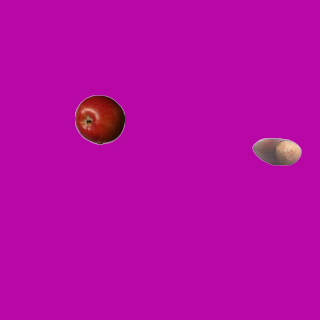Apple Braeburn: (74, 94, 124, 144)
Hazelnut: (251, 126, 301, 176)
